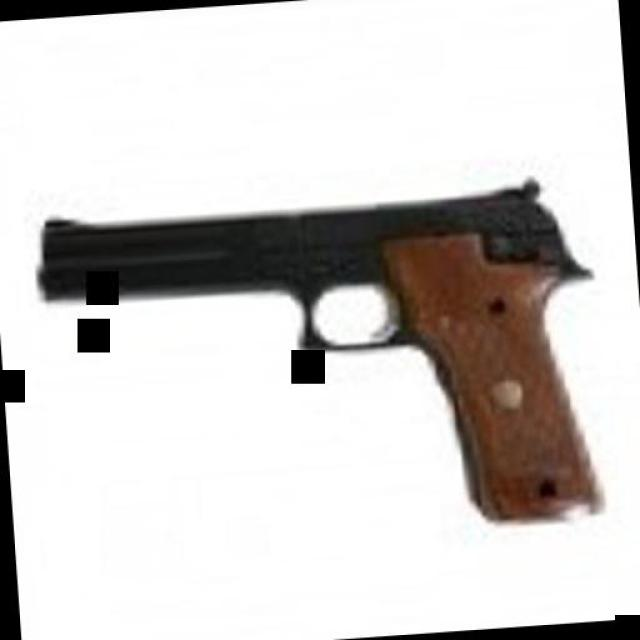gun: (26, 177, 610, 568)
